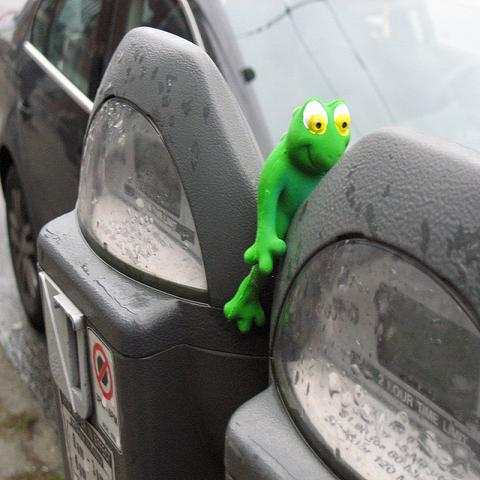car: (0, 2, 269, 319)
